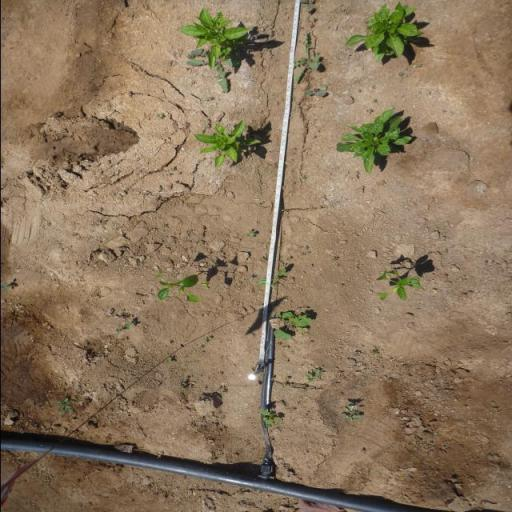plant: (333, 111, 415, 174), (342, 2, 426, 62), (192, 117, 264, 171), (179, 10, 251, 56), (150, 267, 213, 306), (375, 268, 428, 302)
weed: (182, 58, 242, 94), (293, 30, 321, 84), (271, 310, 312, 341), (255, 268, 288, 288), (339, 401, 366, 423), (54, 395, 76, 416), (258, 408, 282, 426), (304, 368, 326, 386), (303, 85, 329, 100), (114, 320, 136, 334), (298, 0, 316, 14), (176, 379, 192, 392), (280, 376, 294, 390), (0, 280, 12, 293), (244, 229, 256, 239), (202, 336, 214, 344), (155, 112, 164, 120), (216, 388, 225, 396), (299, 174, 310, 180), (258, 256, 266, 264), (352, 350, 361, 357), (165, 357, 174, 364), (365, 108, 374, 114), (371, 349, 380, 355), (169, 166, 177, 172), (397, 72, 407, 76), (248, 276, 254, 281)
